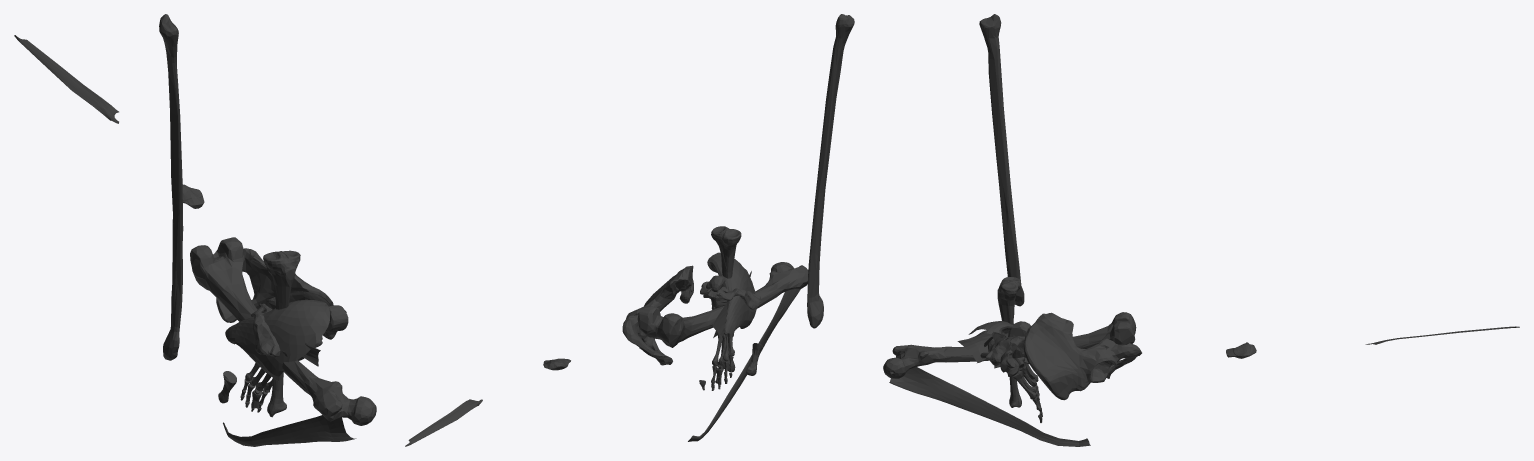
File: sharedassets28.glb
3 renders of one model, left to right at view 1: azimuth 30°, elevation 25°; view 2: azimuth 150°, elevation 25°; view 3: azimuth 270°, elevation 25°, orthographic. The views are drawn at different scales.
Visible parts, largest first — view 1: 0000_Femur _thigh_, R__000930, 0038_Gluteus medius, R__1000193, 0028_Fibula _leg_, R__000928, 0041_Iliotibial _Maissiat_s_ tract _band_, R_, 0071_Fibula _leg_, L__000922, 0070_Tibia _leg_, L__000923, 0029_Interosseous membrane of the leg _middle, 0027_Tibia _leg_, R__000925, 0072_Femur _thigh_, L_male_000854, 0036_S01-05 Sacrum__001242, 0076_Ilium, L_male_001003, 0034_Pubis, R__001011 (+4 smaller); view 2: 0028_Fibula _leg_, R__000928, 0000_Femur _thigh_, R__000930, 0038_Gluteus medius, R__1000193, 0072_Femur _thigh_, L_male_000854, 0041_Iliotibial _Maissiat_s_ tract _band_, R_, 0035_Ilium, R__001012, 0027_Tibia _leg_, R__000925, 0029_Interosseous membrane of the leg _middle, 0036_S01-05 Sacrum__001242, 0033_Ischium, R__001010, 0070_Tibia _leg_, L__000923; view 3: 0035_Ilium, R__001012, 0071_Fibula _leg_, L__000922, 0041_Iliotibial _Maissiat_s_ tract _band_, R_, 0072_Femur _thigh_, L_male_000854, 0033_Ischium, R__001010, 0000_Femur _thigh_, R__000930, 0027_Tibia _leg_, R__000925, 0036_S01-05 Sacrum__001242.
Boxes of the visible parts, x1,y1,x2,y2 form: 0000_Femur _thigh_, R__000930: [190, 239, 376, 425]; 0038_Gluteus medius, R__1000193: [225, 299, 329, 381]; 0028_Fibula _leg_, R__000928: [159, 14, 181, 360]; 0041_Iliotibial _Maissiat_s_ tract _band_, R_: [223, 415, 356, 446]; 0071_Fibula _leg_, L__000922: [162, 14, 183, 360]; 0070_Tibia _leg_, L__000923: [263, 250, 300, 416]; 0029_Interosseous membrane of the leg _middle: [14, 35, 118, 123]; 0027_Tibia _leg_, R__000925: [263, 251, 300, 416]; 0072_Femur _thigh_, L_male_000854: [193, 237, 376, 414]; 0036_S01-05 Sacrum__001242: [251, 303, 322, 360]; 0076_Ilium, L_male_001003: [261, 266, 330, 306]; 0034_Pubis, R__001011: [216, 282, 274, 322]; 0028_Fibula _leg_, R__000928: [807, 14, 854, 328]; 0000_Femur _thigh_, R__000930: [648, 262, 808, 347]; 0038_Gluteus medius, R__1000193: [707, 252, 756, 333]; 0072_Femur _thigh_, L_male_000854: [637, 262, 802, 347]; 0041_Iliotibial _Maissiat_s_ tract _band_, R_: [688, 289, 800, 441]; 0035_Ilium, R__001012: [634, 265, 692, 335]; 0027_Tibia _leg_, R__000925: [711, 226, 741, 371]; 0029_Interosseous membrane of the leg _middle: [405, 399, 482, 446]; 0036_S01-05 Sacrum__001242: [700, 281, 760, 309]; 0033_Ischium, R__001010: [622, 307, 655, 355]; 0070_Tibia _leg_, L__000923: [712, 226, 741, 372]; 0035_Ilium, R__001012: [1023, 312, 1097, 400]; 0071_Fibula _leg_, L__000922: [979, 14, 1024, 306]; 0041_Iliotibial _Maissiat_s_ tract _band_, R_: [889, 367, 1090, 446]; 0072_Femur _thigh_, L_male_000854: [886, 312, 1136, 378]; 0033_Ischium, R__001010: [1092, 338, 1141, 365]; 0000_Femur _thigh_, R__000930: [883, 312, 1126, 376]; 0027_Tibia _leg_, R__000925: [997, 277, 1021, 407]; 0036_S01-05 Sacrum__001242: [980, 336, 1024, 365].
Bounding box in the file's own units: 0.1862 × 0.4189 × 0.624.
1 material, 1 textured.
